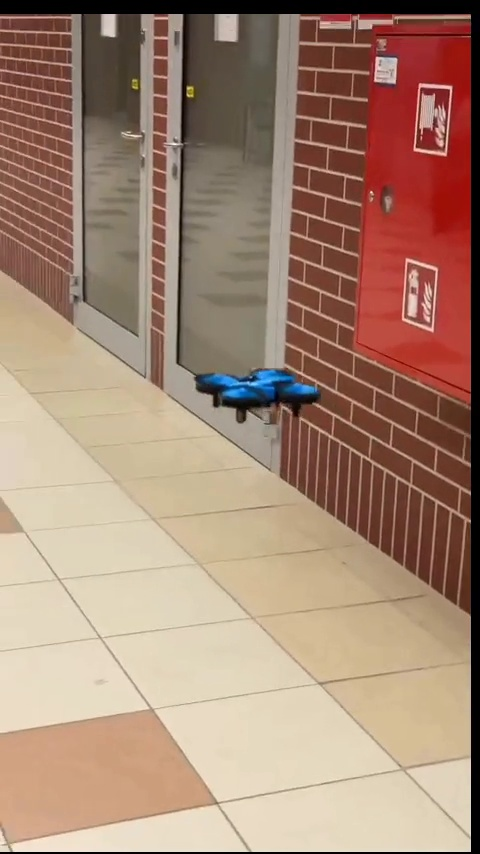drone: (190, 359, 317, 428)
